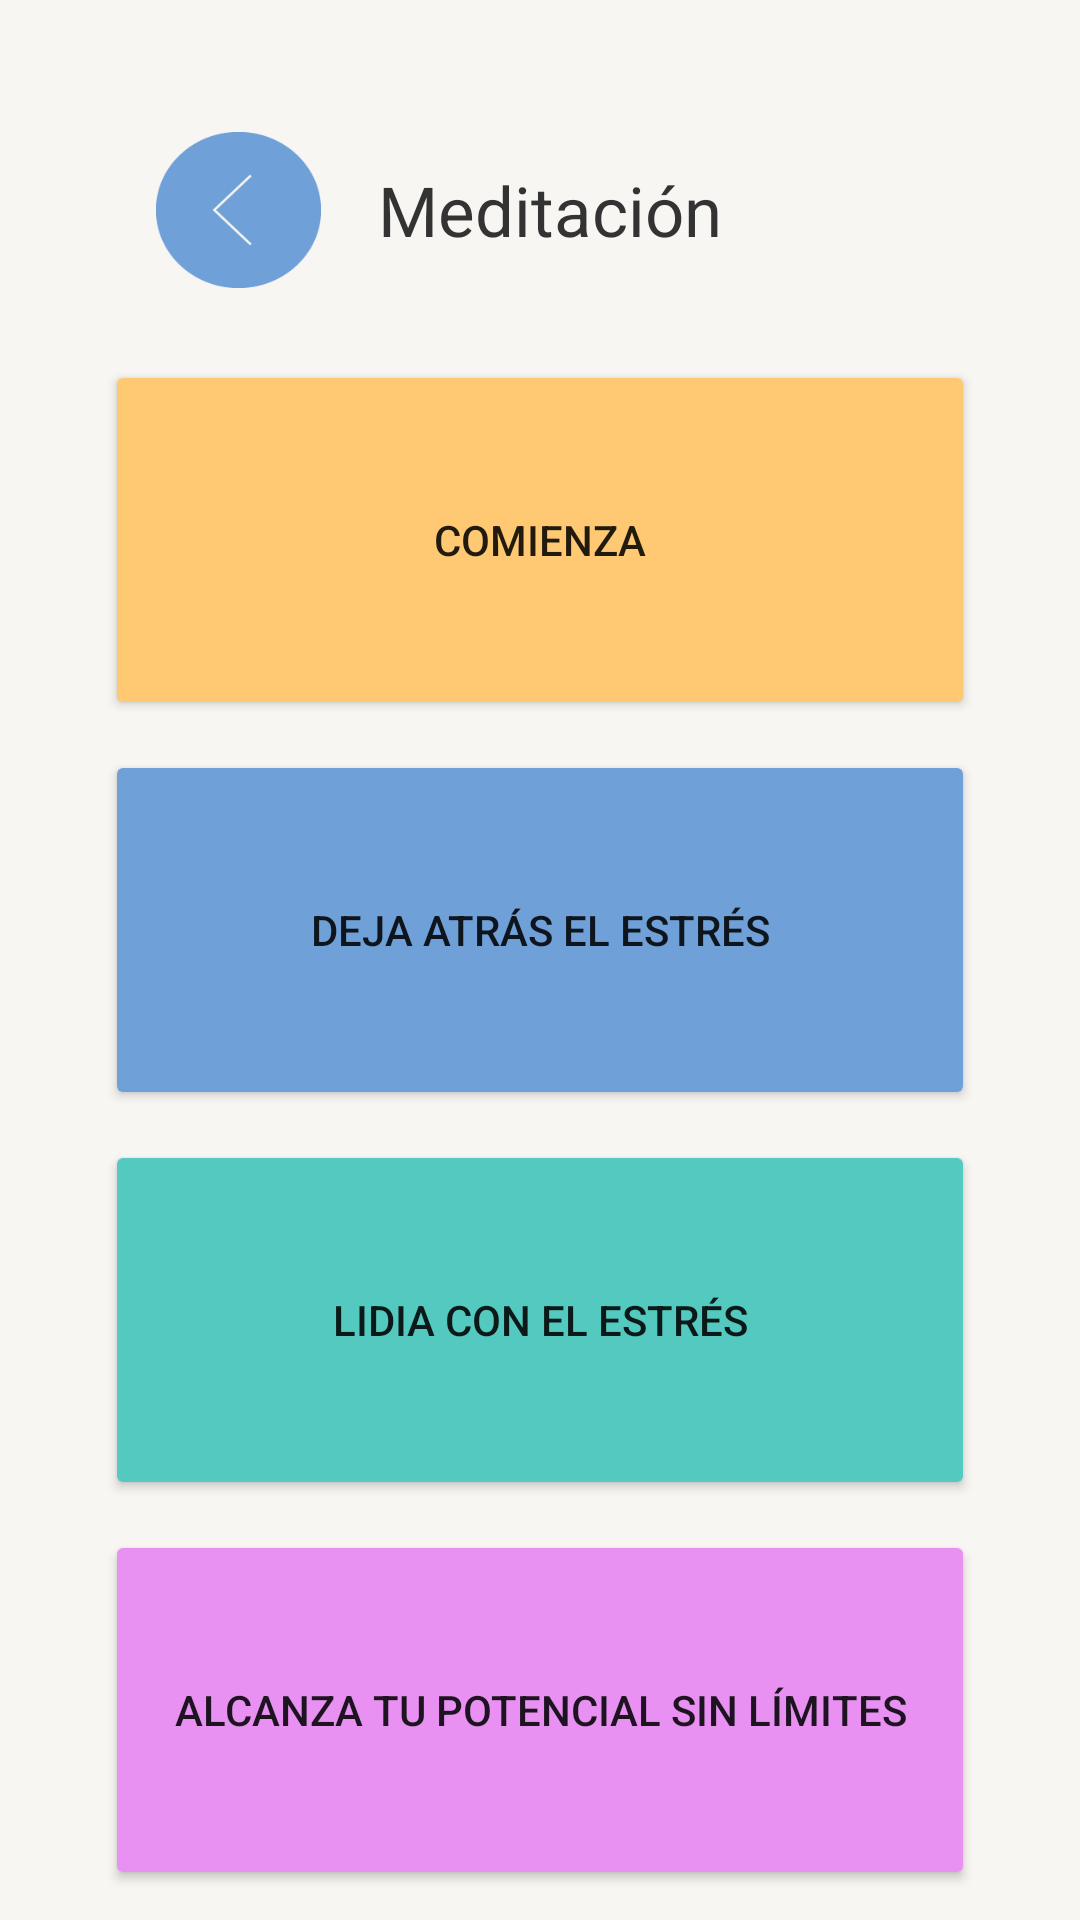

Named icons in this screenshot (1080 x 1920) and their bounding boxes, bbox=[x1, y1, x2, y2]:
regresar xxxdpi: bbox=[156, 132, 321, 288]
